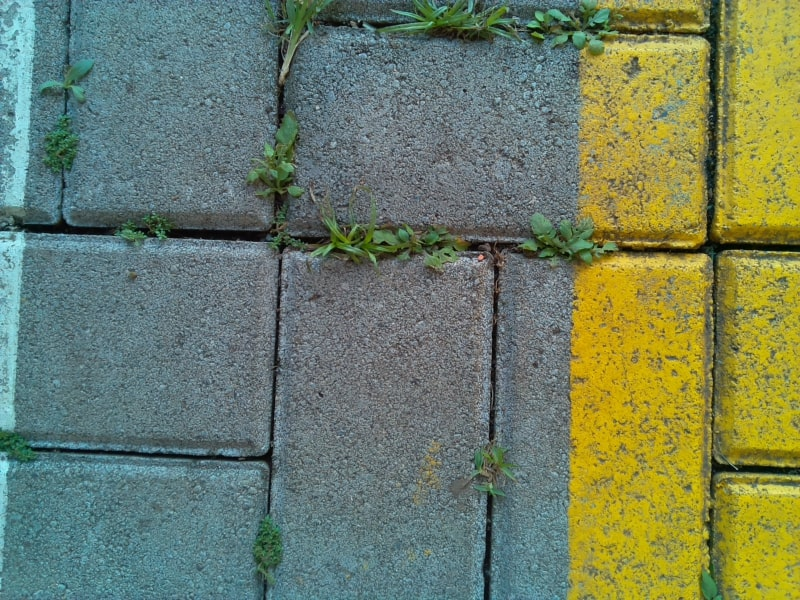Weed: (319, 201, 472, 277), (520, 210, 617, 266), (241, 113, 303, 200), (384, 4, 514, 40), (526, 5, 616, 53), (274, 4, 316, 84), (469, 444, 517, 503), (40, 58, 98, 106), (41, 114, 82, 177), (114, 209, 171, 247), (260, 206, 300, 258), (255, 515, 282, 582), (1, 427, 39, 466), (694, 565, 725, 599), (1, 208, 21, 239)
